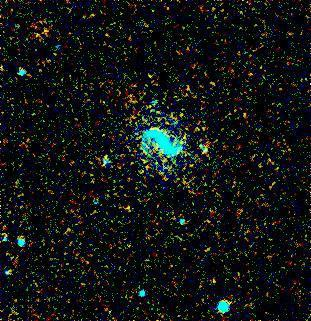star: (0, 222, 21, 252)
